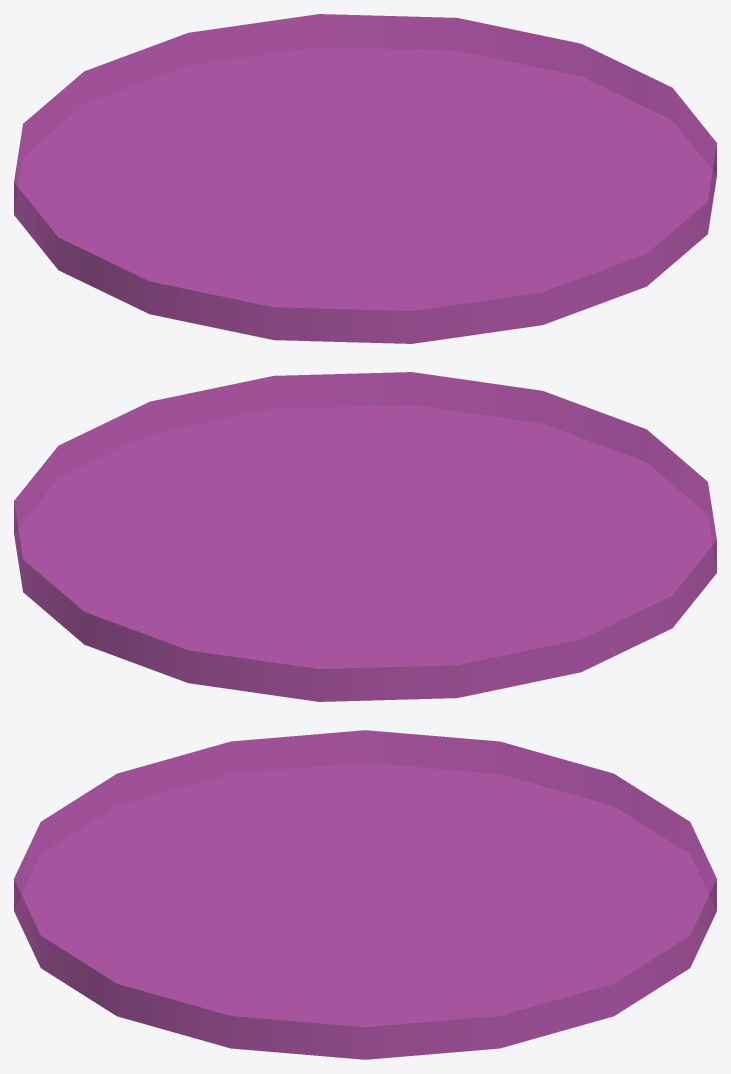
Rendered from SM_Prop_Cannon_Base_01_Collision.fbx.
The picture shows the model from 3 angles, top to bottom: view 1: azimuth 30°, elevation 25°; view 2: azimuth 150°, elevation 25°; view 3: azimuth 270°, elevation 25°; orthographic projection.
Visible parts, largest first — view 1: SM_Prop_Cannon_Base_01_Collision; view 2: SM_Prop_Cannon_Base_01_Collision; view 3: SM_Prop_Cannon_Base_01_Collision.
Part boxes in pixels (x1=…): SM_Prop_Cannon_Base_01_Collision: x1=14, y1=14, x2=716, y2=343; SM_Prop_Cannon_Base_01_Collision: x1=14, y1=372, x2=716, y2=701; SM_Prop_Cannon_Base_01_Collision: x1=14, y1=730, x2=716, y2=1059.
Bounding box in the file's own units: 615 × 31.44 × 615.
